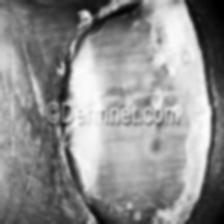Toxin: (48, 0, 210, 103), (47, 129, 208, 224)
